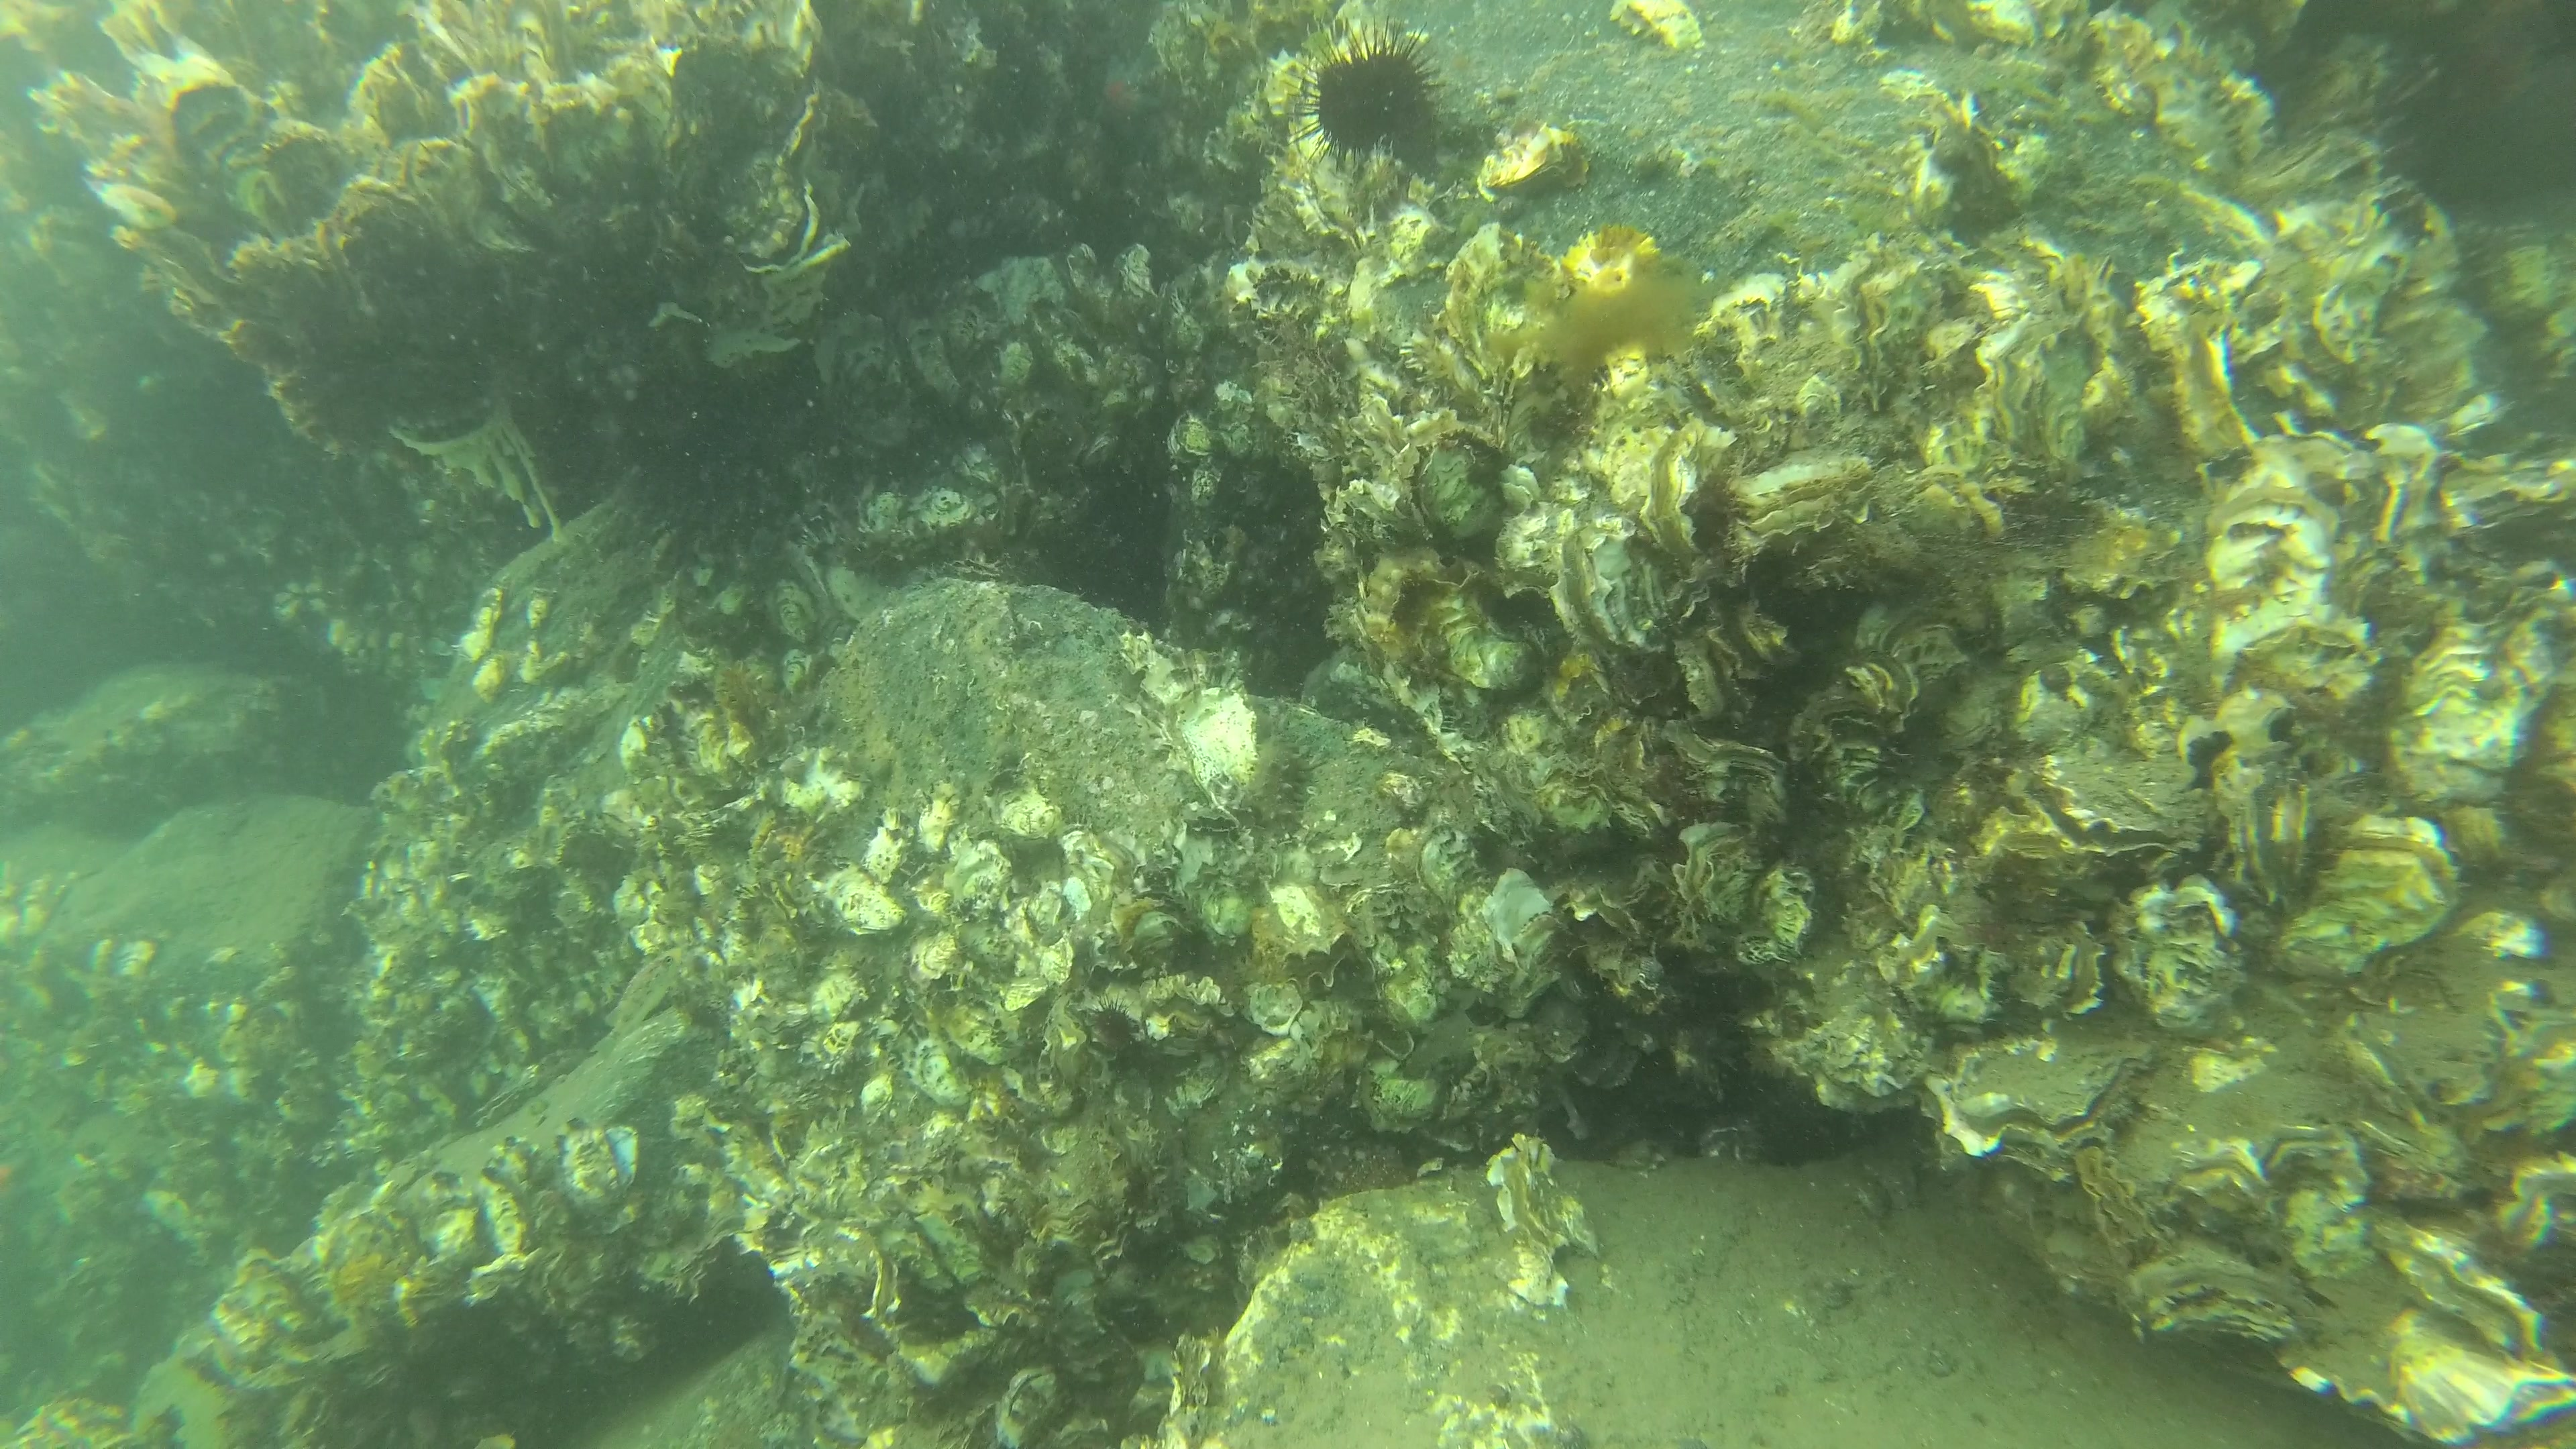echinus: (1302, 37, 1449, 168)
starfish: (1085, 55, 1162, 142)
